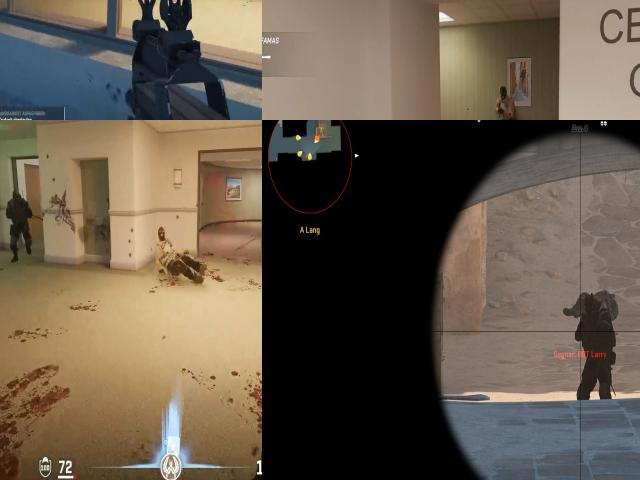CT: (579, 295, 611, 398), (2, 186, 34, 248)
CT-Head: (584, 295, 599, 316)
Dead: (152, 228, 209, 278), (570, 290, 620, 318)
T-Head: (495, 89, 517, 120), (498, 84, 509, 104)
